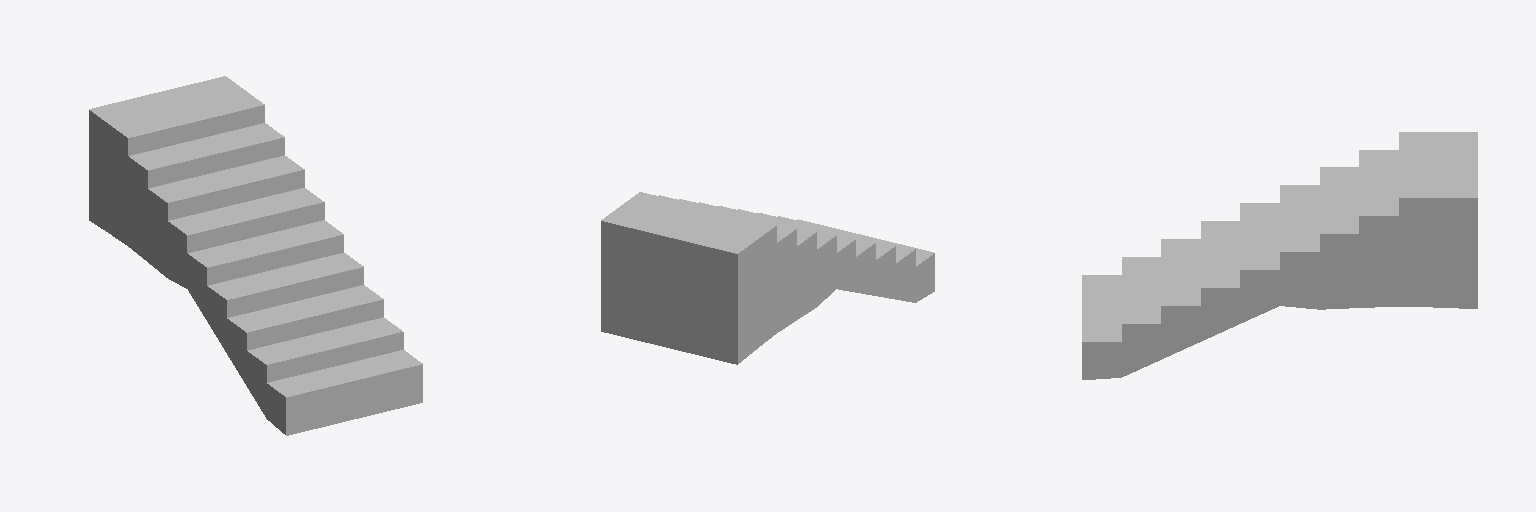
Rendered from Stairs (95).obj.
3 renders of one model, left to right at view 1: azimuth 30°, elevation 25°; view 2: azimuth 150°, elevation 25°; view 3: azimuth 270°, elevation 25°, orthographic.
Visible parts, largest first — view 1: Stairs (95); view 2: Stairs (95); view 3: Stairs (95).
Boxes of the visible parts, x1,y1,x2,y2 form: Stairs (95): [89, 76, 422, 435]; Stairs (95): [601, 192, 934, 364]; Stairs (95): [1082, 132, 1477, 379].
Bounding box in the file's own units: 2 × 2.54 × 5.